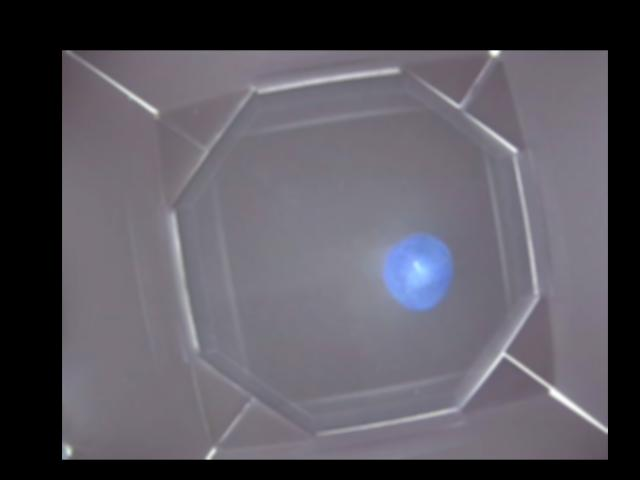Potato: (387, 235, 457, 310)
